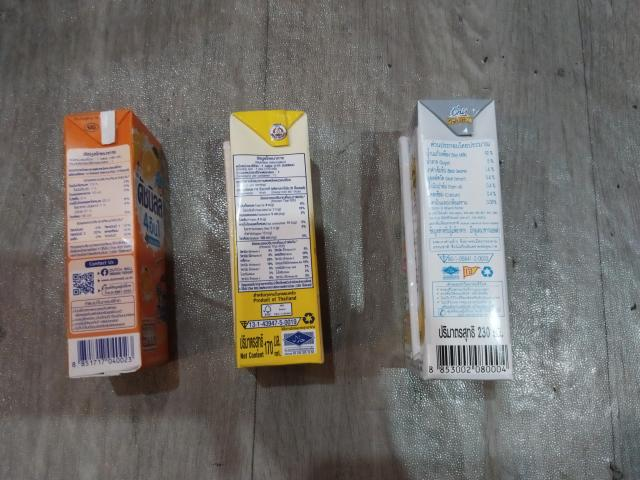drink_box: (398, 93, 525, 386), (55, 107, 182, 377), (220, 106, 330, 382)
